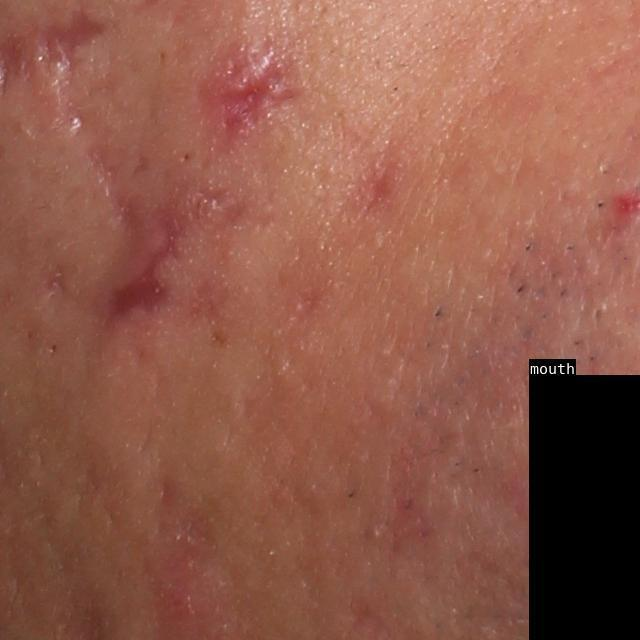atrophic_scar: (106, 170, 226, 319), (208, 50, 310, 145), (81, 142, 129, 197)
